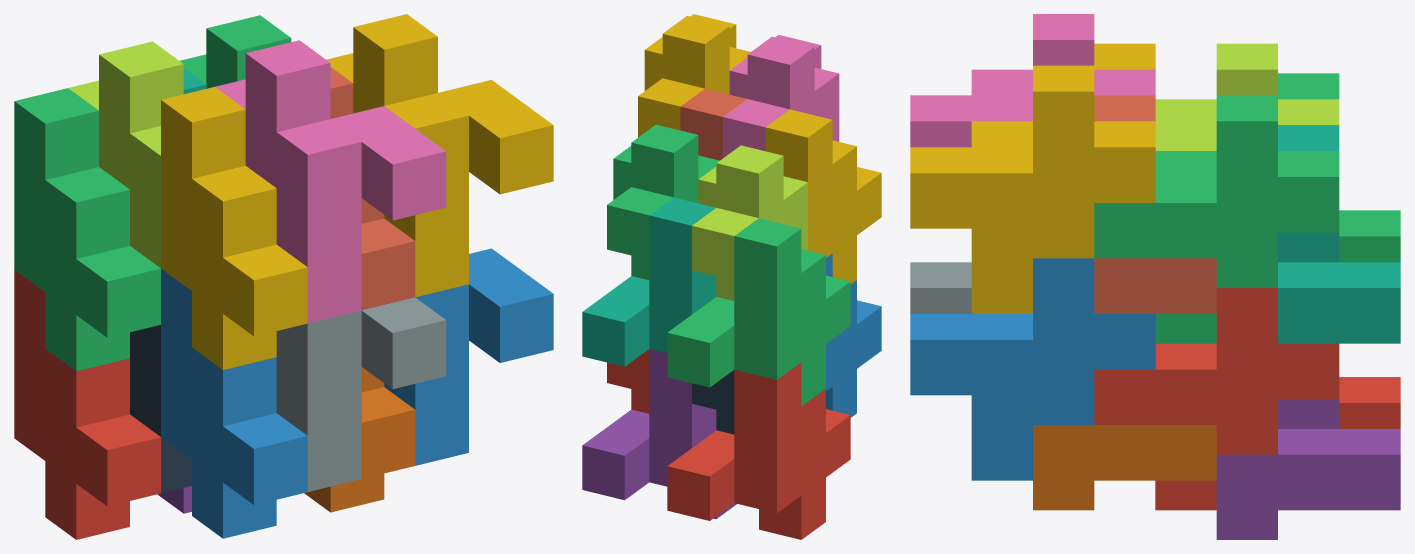
The model's file is tiling.obj.
3 views of the same model, side by side, from view 1: azimuth 30°, elevation 25°; view 2: azimuth 150°, elevation 25°; view 3: azimuth 270°, elevation 25° (orthographic). The views are drawn at different scales.
Parts seen in each view (by area): view 1: copy_2_domain_4, copy_1_domain_3, copy_1_domain_4, copy_2_domain_8, copy_1_domain_1, copy_1_domain_2, copy_2_domain_2, copy_2_domain_6, copy_2_domain_3, copy_1_domain_6, copy_1_domain_8, copy_2_domain_1 (+1 smaller); view 2: copy_1_domain_3, copy_1_domain_1, copy_1_domain_7, copy_1_domain_4, copy_1_domain_5, copy_2_domain_3, copy_2_domain_4, copy_2_domain_7, copy_2_domain_8, copy_1_domain_2, copy_1_domain_8, copy_2_domain_5 (+1 smaller); view 3: copy_2_domain_8, copy_2_domain_6, copy_2_domain_7, copy_2_domain_5, copy_1_domain_5, copy_1_domain_7, copy_1_domain_6, copy_2_domain_4, copy_1_domain_8, copy_2_domain_3, copy_1_domain_3, copy_1_domain_1 (+2 smaller).
Boxes of the visible parts, x1,y1,x2,y2 form: copy_2_domain_4: (215,40,446,323); copy_1_domain_3: (14,88,160,371); copy_1_domain_4: (161,87,307,369); copy_2_domain_8: (326,14,553,297); copy_1_domain_1: (14,270,160,539); copy_1_domain_2: (161,269,307,538); copy_2_domain_2: (276,297,446,491); copy_2_domain_6: (384,248,553,465); copy_2_domain_3: (68,41,183,267); copy_1_domain_6: (304,367,415,512); copy_1_domain_8: (330,67,415,310); copy_2_domain_1: (130,325,191,493); copy_1_domain_3: (667,218,850,406); copy_1_domain_1: (667,362,850,539); copy_1_domain_7: (582,197,716,366); copy_1_domain_4: (765,109,881,283); copy_1_domain_5: (582,349,736,519); copy_2_domain_3: (692,145,807,300); copy_2_domain_4: (723,35,839,157); copy_2_domain_7: (607,124,719,280); copy_2_domain_8: (638,14,750,137); copy_1_domain_2: (826,253,881,417); copy_1_domain_8: (680,88,746,160); copy_2_domain_5: (607,349,649,413); copy_2_domain_8: (910,65,1155,313); copy_2_domain_6: (910,258,1155,480); copy_2_domain_7: (1094,95,1339,343); copy_2_domain_5: (1094,288,1339,510); copy_1_domain_5: (1216,399,1400,539); copy_1_domain_7: (1278,125,1400,343); copy_1_domain_6: (1033,425,1216,510); copy_2_domain_4: (910,14,1155,147); copy_1_domain_8: (1094,95,1216,313); copy_2_domain_3: (1155,43,1339,150); copy_1_domain_3: (1278,73,1400,262); copy_1_domain_1: (1339,377,1400,428).
Size of the model in its own units: 6 by 9 by 8.
